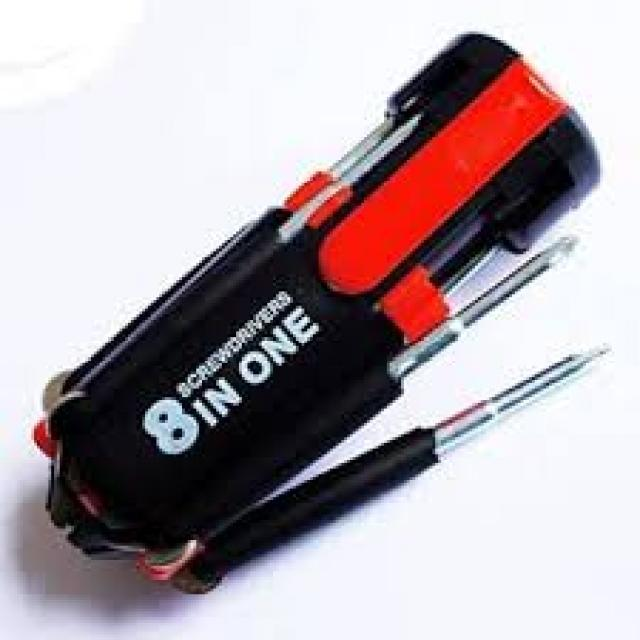screwdriver: (154, 236, 590, 571), (208, 328, 628, 640)
